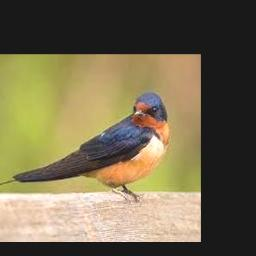Swallow: (0, 92, 171, 203)
